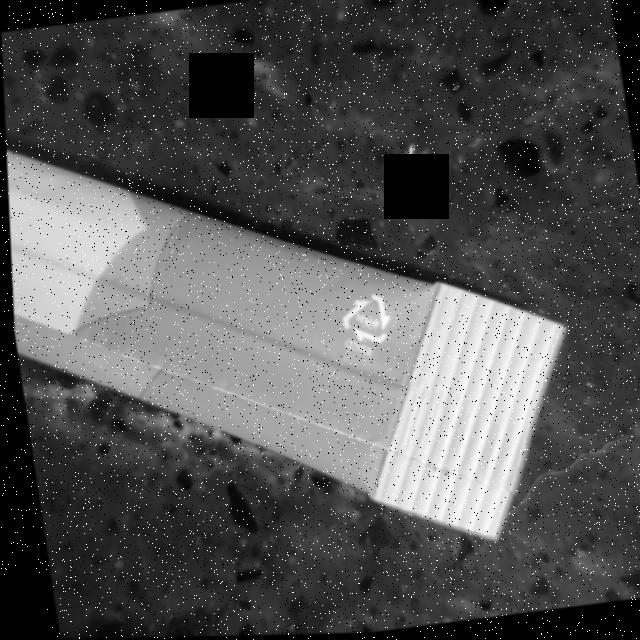Vinyl: (331, 284, 395, 349)
